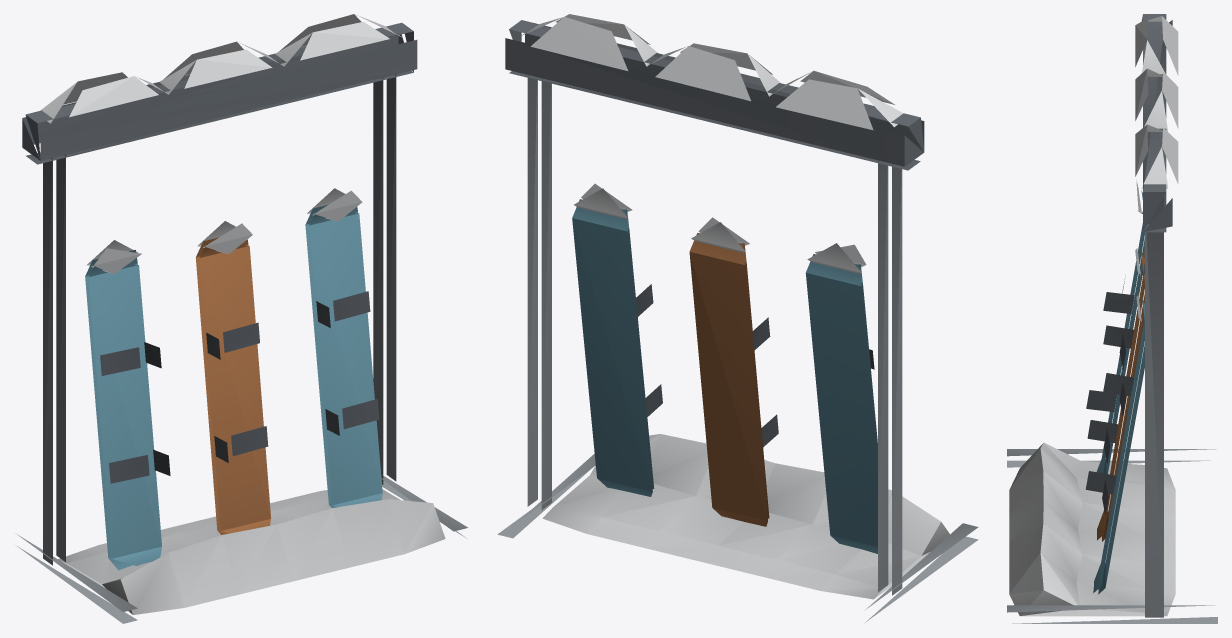
Rendered from boards.lod.glb.
3 views of the same model, side by side, from view 1: azimuth 30°, elevation 25°; view 2: azimuth 150°, elevation 25°; view 3: azimuth 270°, elevation 25° (orthographic). The views are drawn at different scales.
Parts seen in each view (by area): view 1: boards; view 2: boards; view 3: boards.
Part boxes in pixels (x1=…): boards: x1=15, y1=14, x2=468, y2=623; boards: x1=497, y1=14, x2=978, y2=623; boards: x1=1007, y1=14, x2=1217, y2=623.
Bounding box in the file's own units: 2 × 2.42 × 1.
